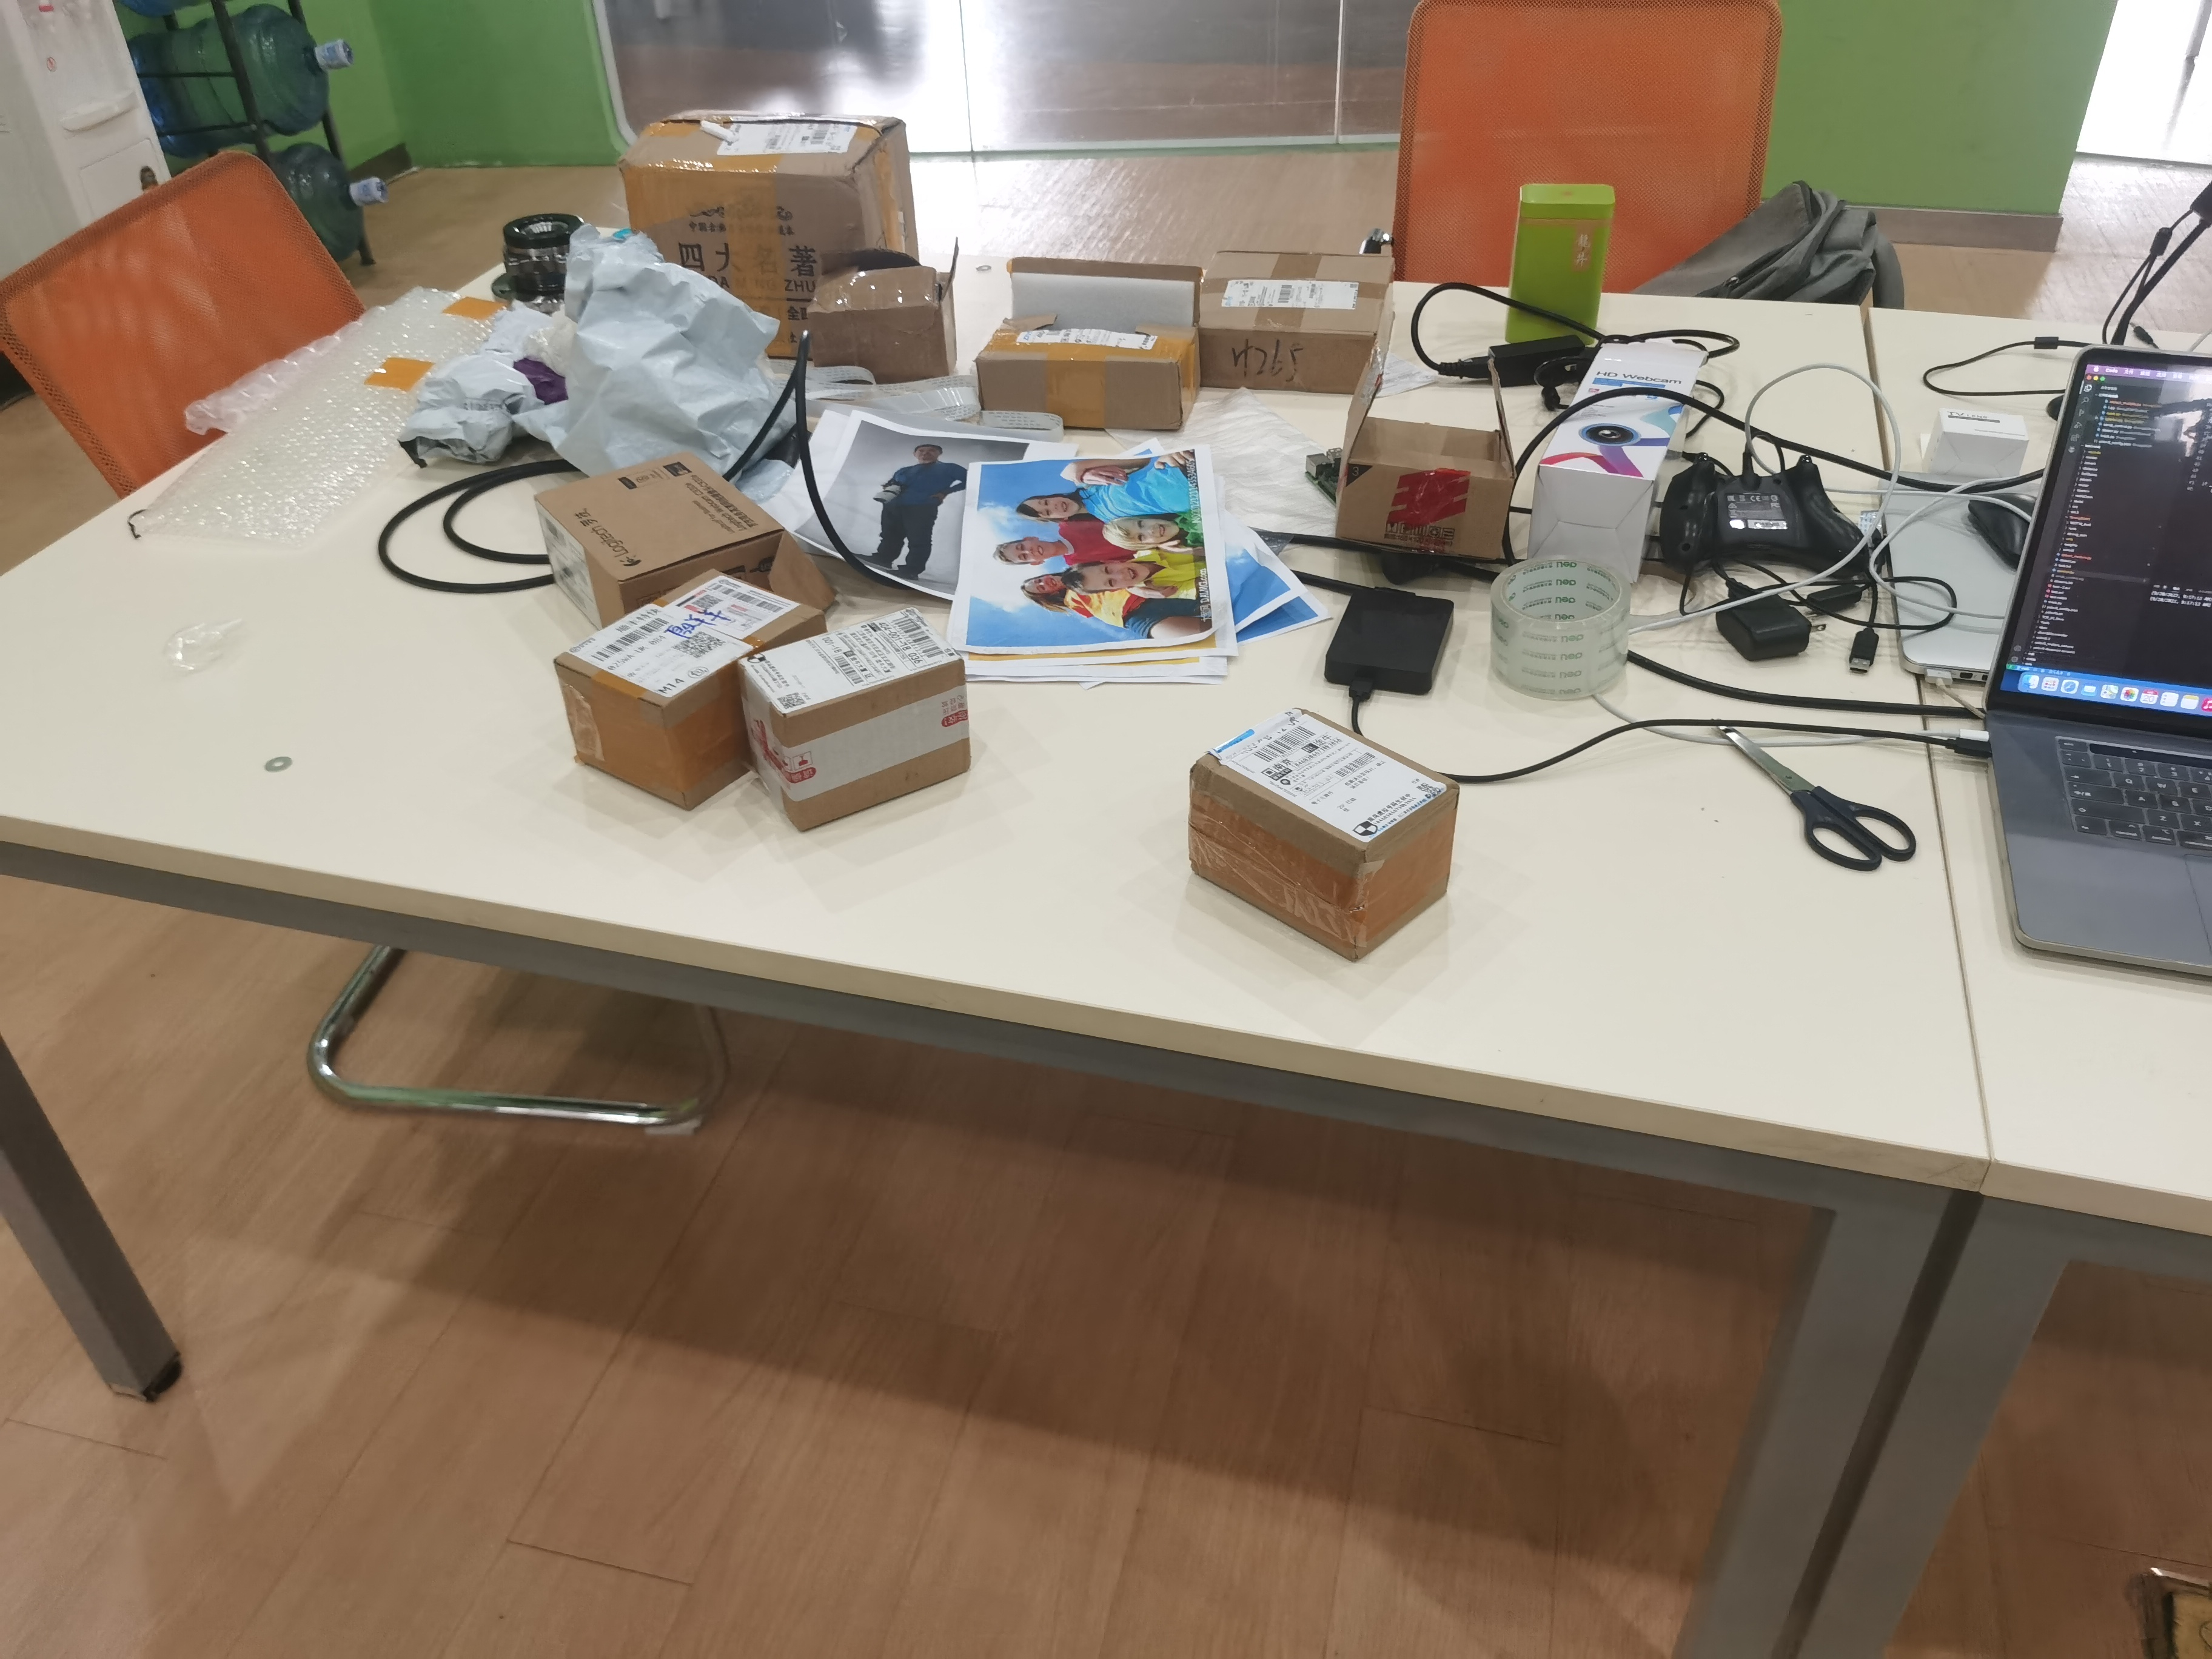box: (615, 85, 977, 375), (1160, 683, 1484, 971), (712, 598, 1026, 836), (543, 566, 840, 810), (488, 423, 805, 619), (972, 240, 1217, 457), (1315, 349, 1533, 554), (1184, 232, 1420, 396)
